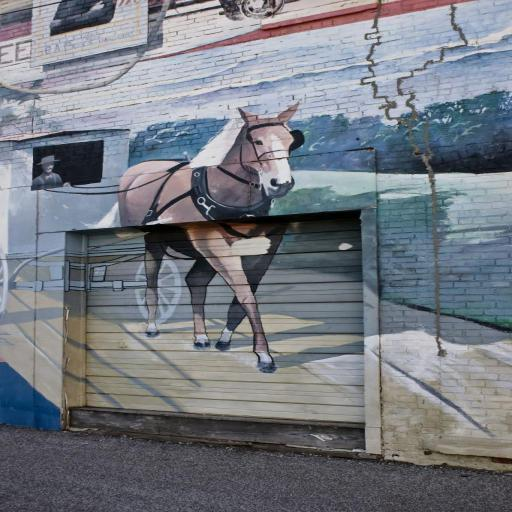horse: (82, 102, 298, 376)
